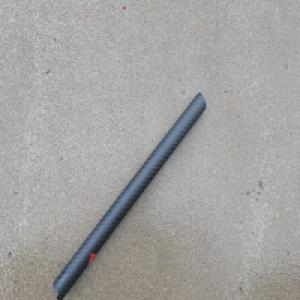LuggagePart: (52, 91, 206, 298)
